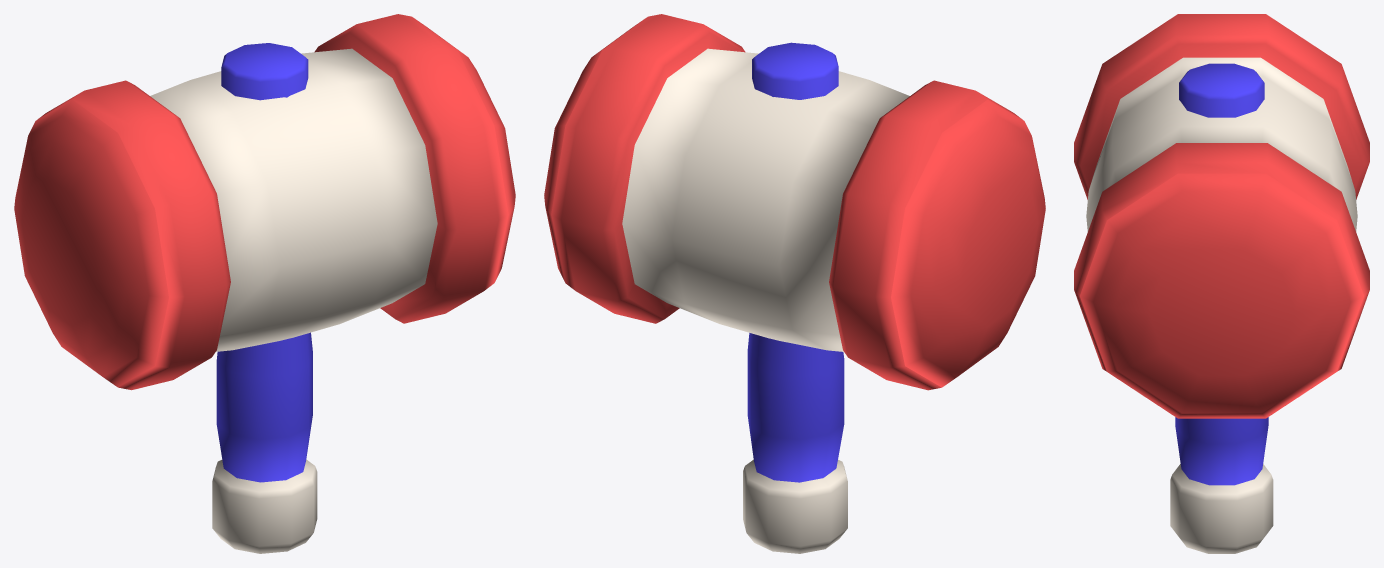
The model's file is hammer.fbx.
The picture shows the model from 3 angles, left to right: view 1: azimuth 30°, elevation 25°; view 2: azimuth 150°, elevation 25°; view 3: azimuth 270°, elevation 25°; orthographic projection. The views are drawn at different scales.
Parts seen in each view (by area): view 1: head, hammer; view 2: head, hammer; view 3: head, hammer.
Boxes of the visible parts, x1=… form: head: x1=14, y1=14, x2=515, y2=390; hammer: x1=212, y1=43, x2=317, y2=553; head: x1=544, y1=14, x2=1045, y2=390; hammer: x1=743, y1=42, x2=847, y2=553; head: x1=1074, y1=14, x2=1369, y2=418; hammer: x1=1170, y1=63, x2=1273, y2=553.
Size of the model in its own units: 89.42 by 99.05 by 58.07.
